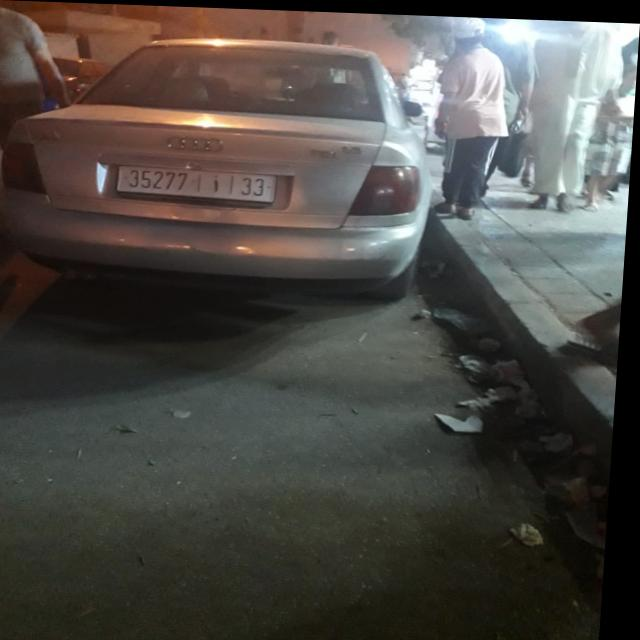License-Plate: (119, 164, 280, 201)
